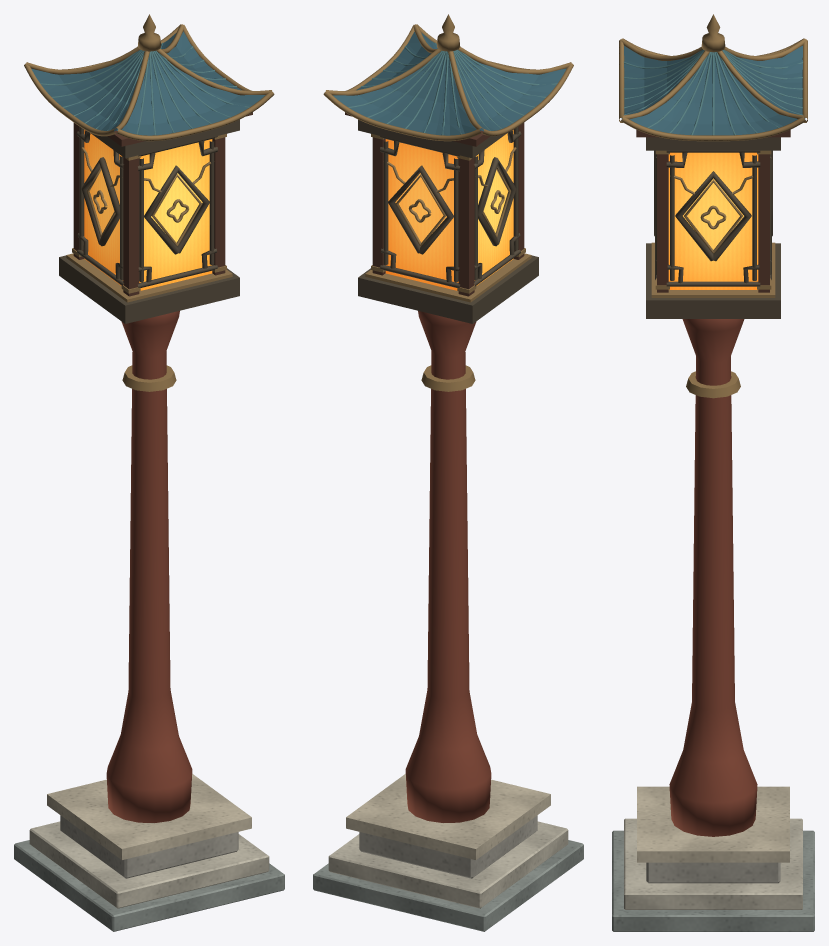
3 renders of one model, left to right at view 1: azimuth 30°, elevation 25°; view 2: azimuth 150°, elevation 25°; view 3: azimuth 270°, elevation 25°, orthographic.
Visible parts, largest first — view 1: E01_red, E01_bronze, E01_blue, E01_paper, E01_gold, E01_relief, E01_light, E01_cool, E01_wood, E01_stone, E01_teal; view 2: E01_red, E01_bronze, E01_blue, E01_paper, E01_gold, E01_relief, E01_light, E01_cool, E01_wood, E01_stone, E01_teal; view 3: E01_red, E01_blue, E01_bronze, E01_paper, E01_gold, E01_relief, E01_light, E01_cool, E01_wood, E01_teal, E01_stone.
Part boxes in pixels (box(x1,y1,x2,y2)): E01_red: box(106, 311, 192, 822); E01_bronze: box(59, 119, 239, 323); E01_blue: box(31, 31, 265, 135); E01_paper: box(84, 130, 212, 290); E01_gold: box(24, 14, 274, 391); E01_relief: box(47, 774, 251, 859); E01_light: box(29, 821, 269, 908); E01_cool: box(14, 840, 284, 931); E01_wood: box(73, 112, 252, 296); E01_stone: box(60, 815, 238, 878); E01_teal: box(40, 42, 249, 135); E01_red: box(405, 311, 491, 822); E01_bronze: box(358, 119, 538, 323); E01_blue: box(333, 32, 566, 135); E01_paper: box(385, 130, 513, 290); E01_gold: box(323, 14, 573, 391); E01_relief: box(346, 774, 550, 859); E01_light: box(328, 821, 568, 908); E01_cool: box(313, 840, 583, 931); E01_wood: box(345, 112, 524, 296); E01_stone: box(359, 815, 537, 878); E01_teal: box(348, 42, 557, 135); E01_red: box(669, 319, 757, 836); E01_blue: box(621, 45, 805, 135); E01_bronze: box(646, 137, 780, 318); E01_paper: box(668, 152, 758, 289); E01_gold: box(619, 14, 807, 398); E01_relief: box(637, 786, 789, 862); E01_light: box(624, 818, 802, 909); E01_cool: box(612, 830, 814, 931); E01_wood: box(636, 130, 790, 292); E01_teal: box(624, 50, 802, 135); E01_stone: box(646, 862, 780, 883).
Bounding box in the file's own units: 0.7956 × 3.79 × 0.7956.
11 materials, 5 textured.
